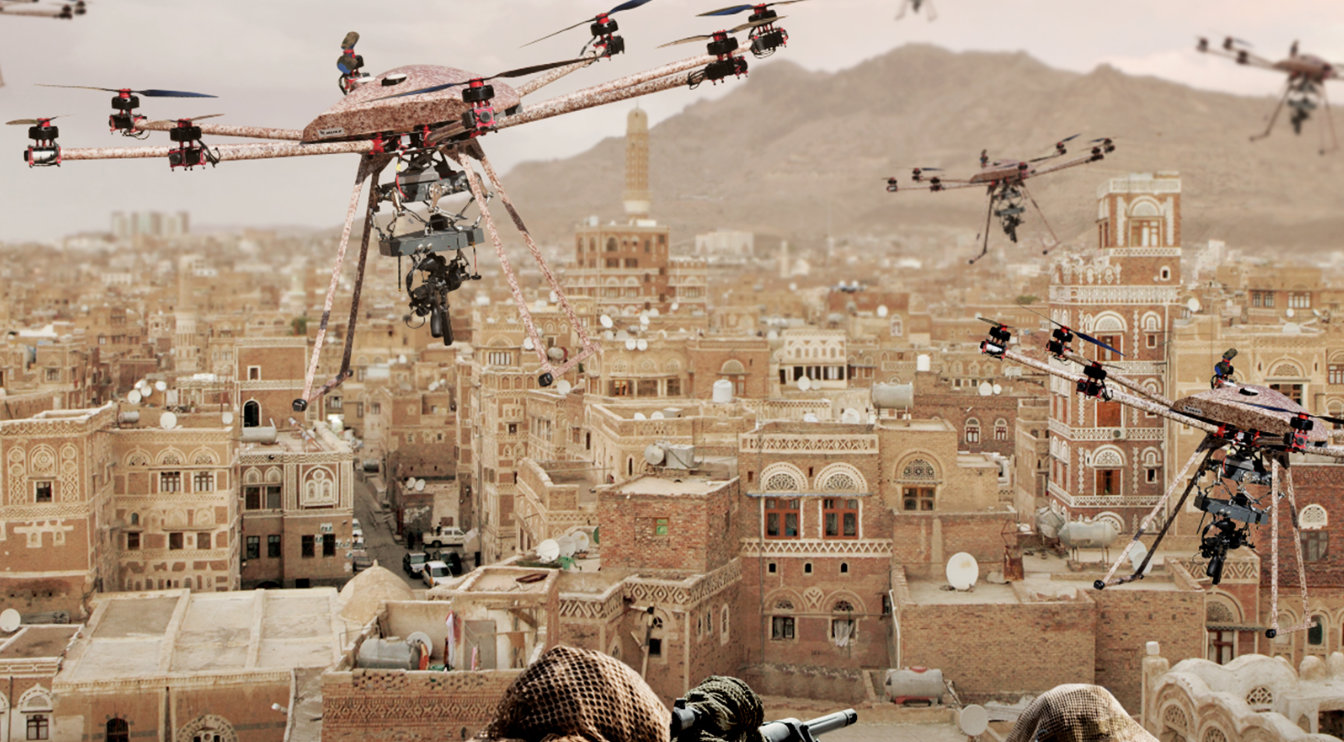drone: (6, 1, 801, 393), (983, 310, 1344, 636), (886, 132, 1124, 266), (1193, 37, 1344, 160), (1, 1, 102, 29), (873, 1, 963, 27)
